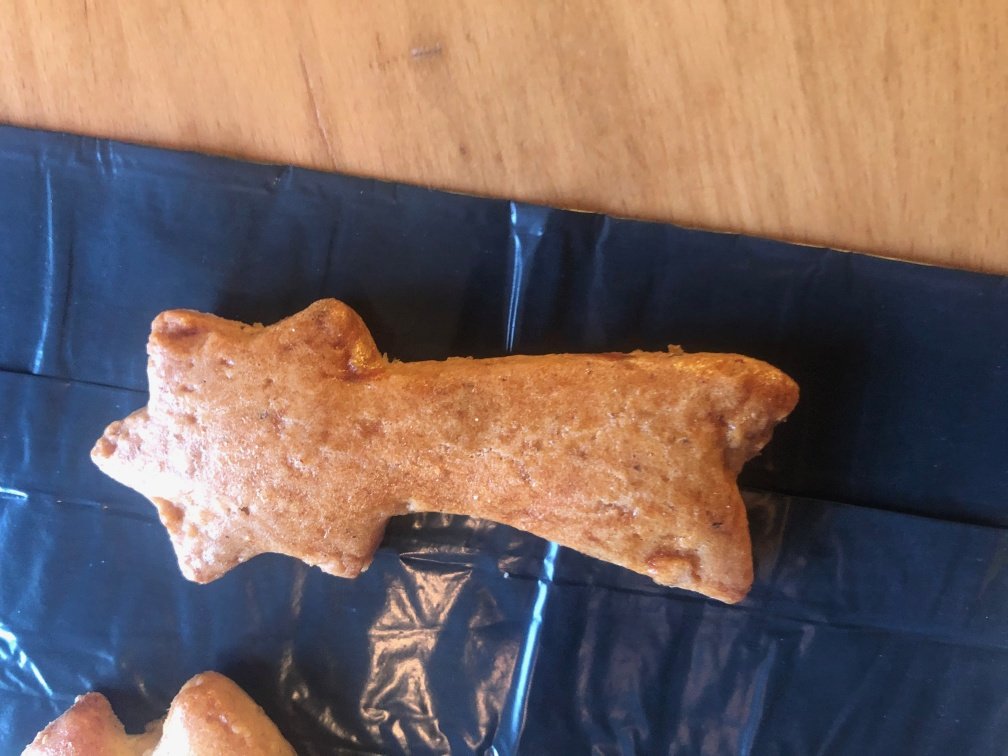shooting star: (80, 286, 819, 615)
